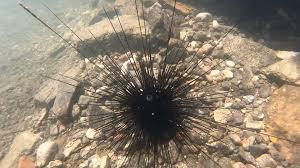urchin: (38, 11, 238, 168)
